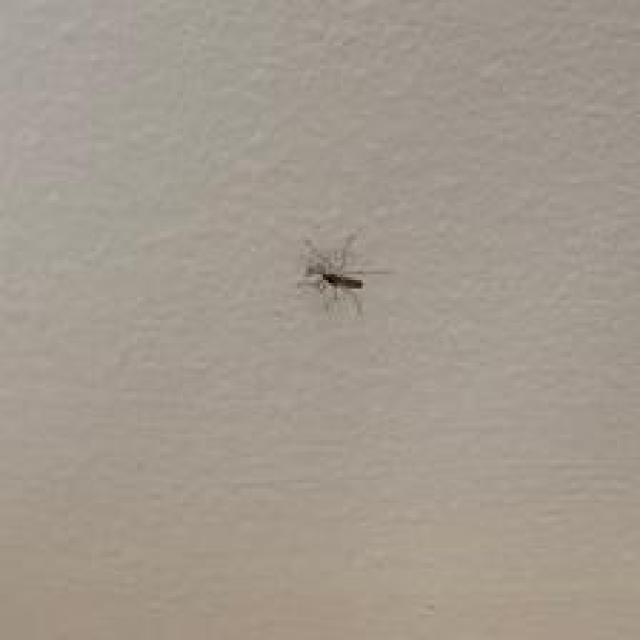Culex: (300, 233, 366, 298)
